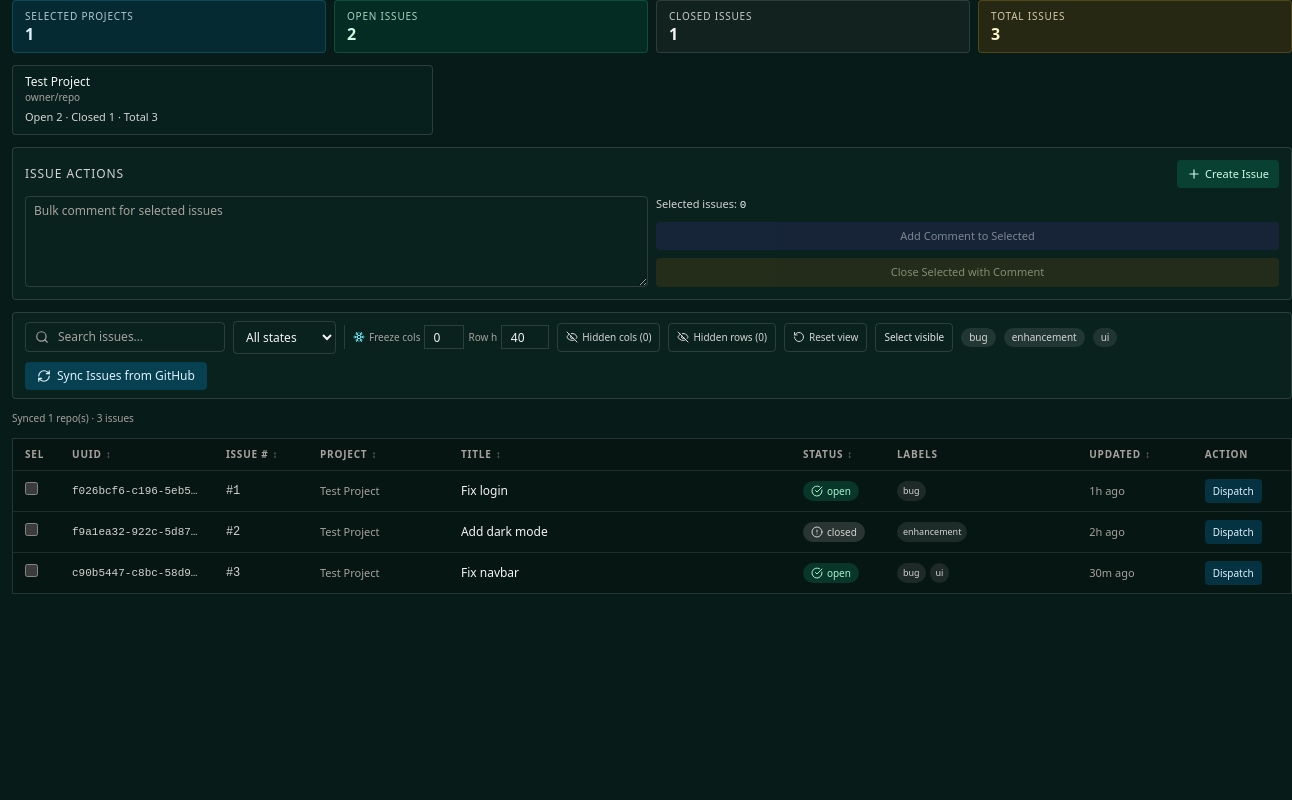
Test: IssuesTab › search input filters by title
Expected: the text "#1" is shown, x1=226 y1=484 x2=240 y2=498
Search for "login"
Type "login" into the field with placeholder "Search issues…" at {"x": 125, "y": 337}, box x1=25 y1=322 x2=225 y2=352
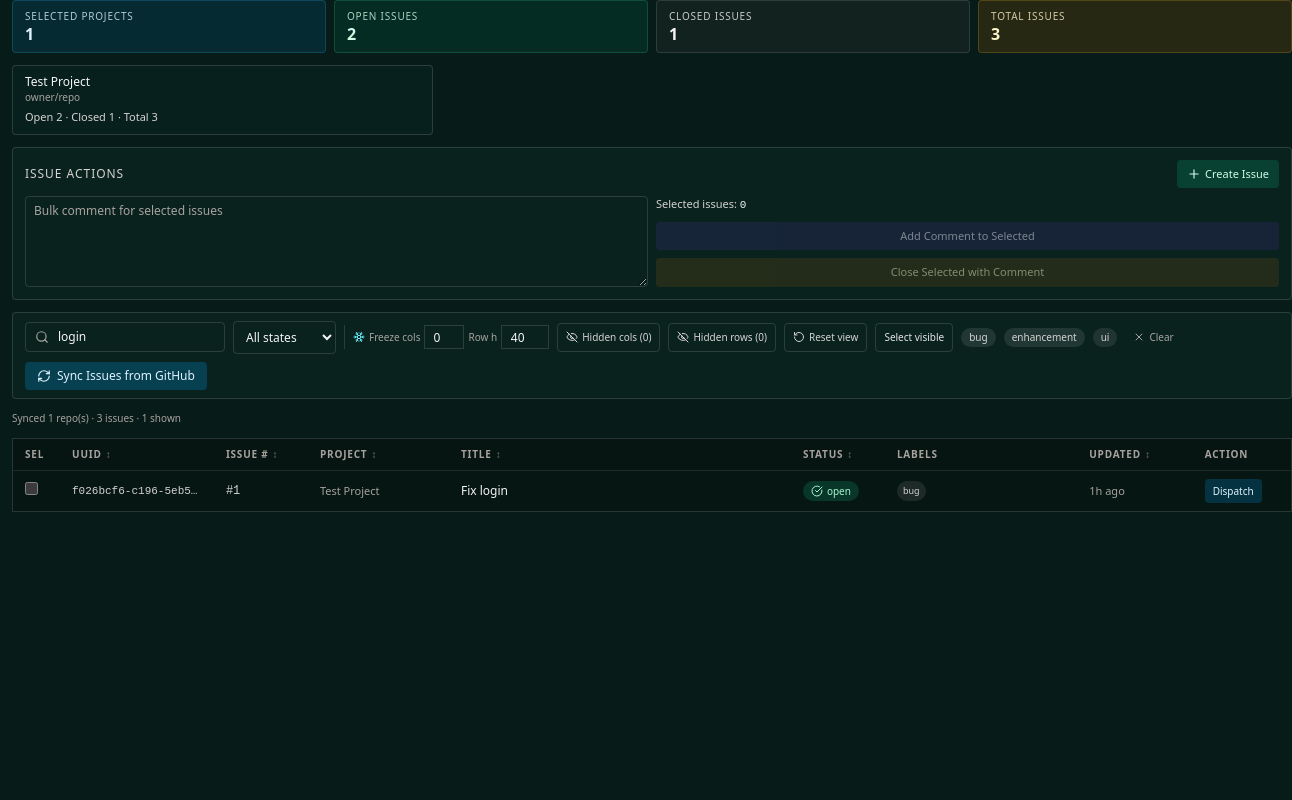
Expected: the text "Fix login" is shown, x1=461 y1=482 x2=508 y2=498
Now the text "Add dark mode" is gone
